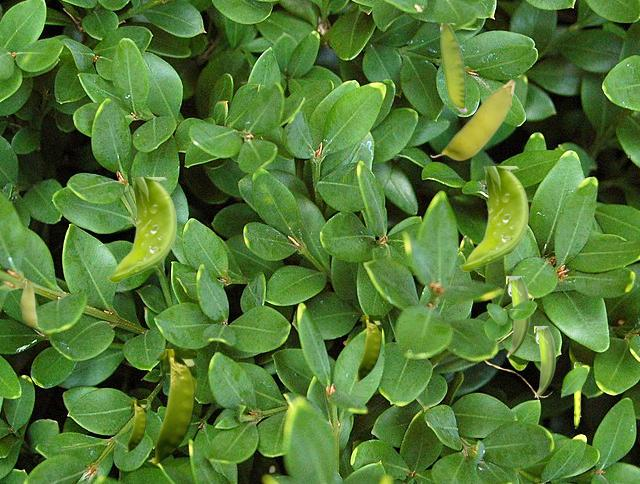pea: (107, 177, 175, 281), (459, 166, 527, 270), (430, 79, 514, 159), (147, 349, 195, 463), (440, 23, 466, 112), (506, 276, 530, 356), (353, 315, 380, 380), (534, 326, 556, 396), (20, 277, 42, 328), (124, 400, 145, 451), (574, 362, 581, 427)
